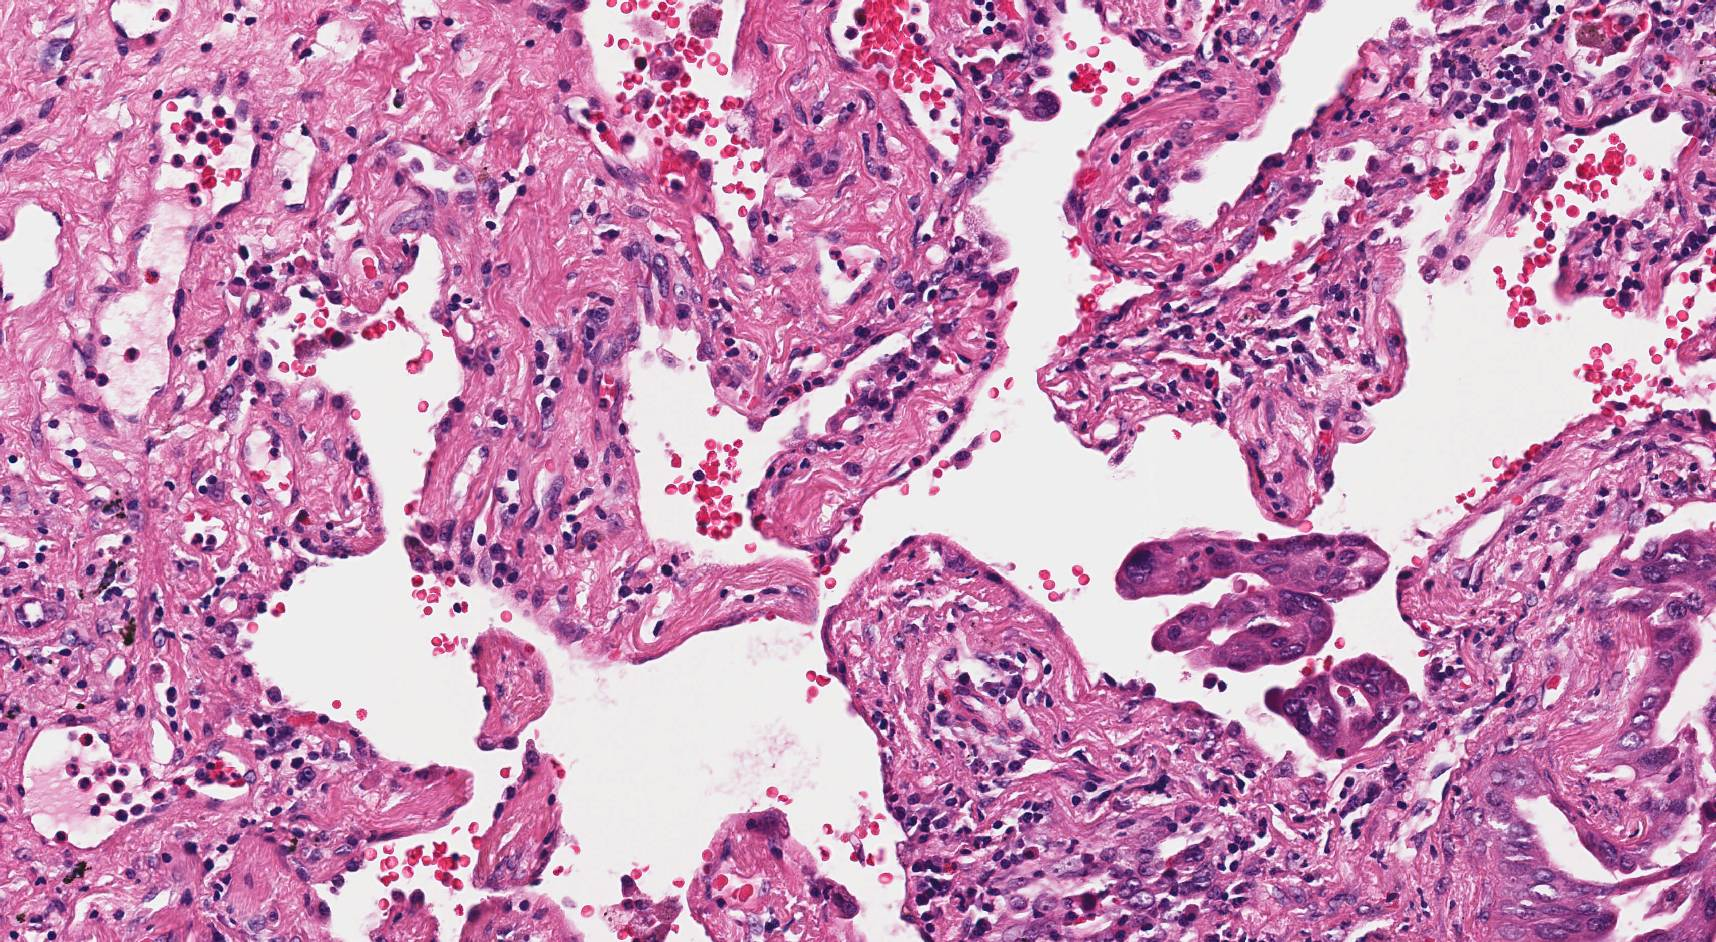stas: (1116, 533, 1387, 600), (1264, 654, 1417, 760), (1151, 587, 1334, 672)
